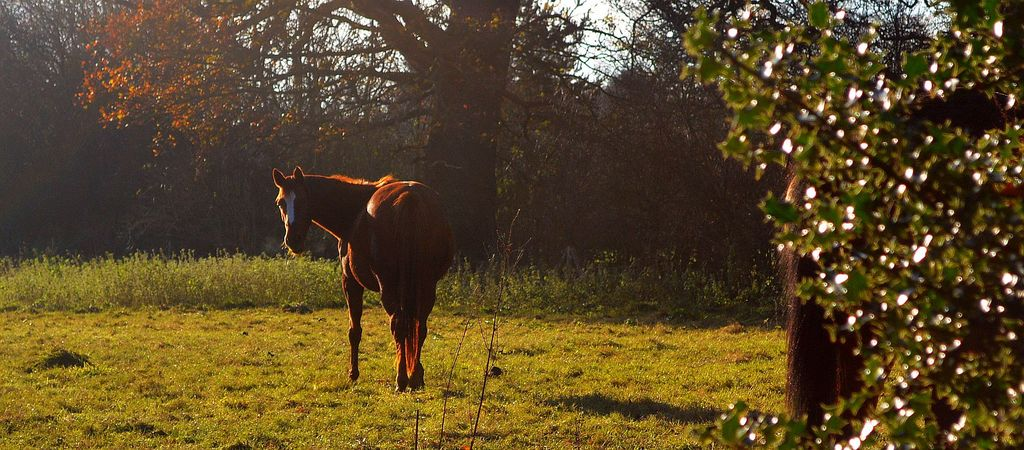horse: (272, 163, 458, 392)
